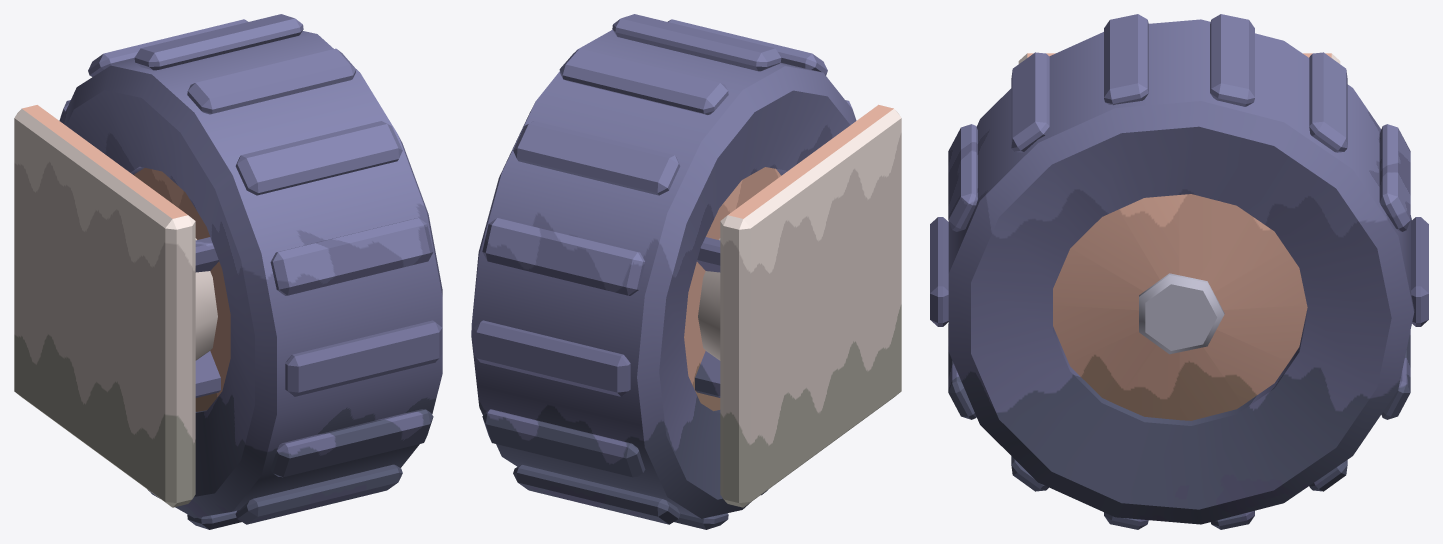
The model's file is R4M_WheelM_Side_Offroad_LOD1.glb.
3 renders of one model, left to right at view 1: azimuth 30°, elevation 25°; view 2: azimuth 150°, elevation 25°; view 3: azimuth 270°, elevation 25°, orthographic.
Visible parts, largest first — view 1: R4M_WheelM_Side_Offroad_LOD1; view 2: R4M_WheelM_Side_Offroad_LOD1; view 3: R4M_WheelM_Side_Offroad_LOD1.
Boxes of the visible parts, <box> form: R4M_WheelM_Side_Offroad_LOD1: <box>14,14,442,529</box>; R4M_WheelM_Side_Offroad_LOD1: <box>471,14,901,529</box>; R4M_WheelM_Side_Offroad_LOD1: <box>930,14,1428,529</box>.
Size of the model in its own units: 0.452 by 0.7665 by 0.776.
Materials: 4 (4 with a texture image).
